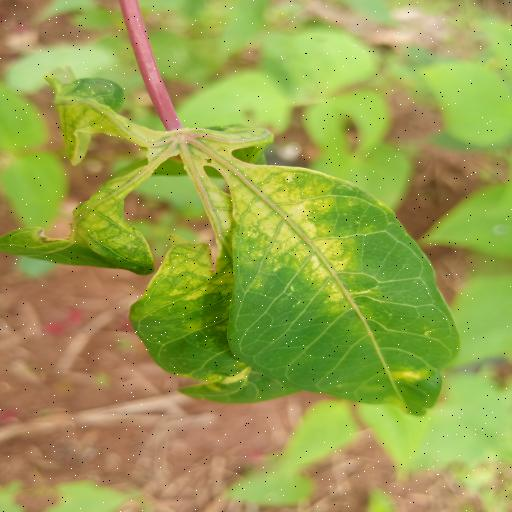Cassava_Mosaic: (8, 68, 474, 425)
